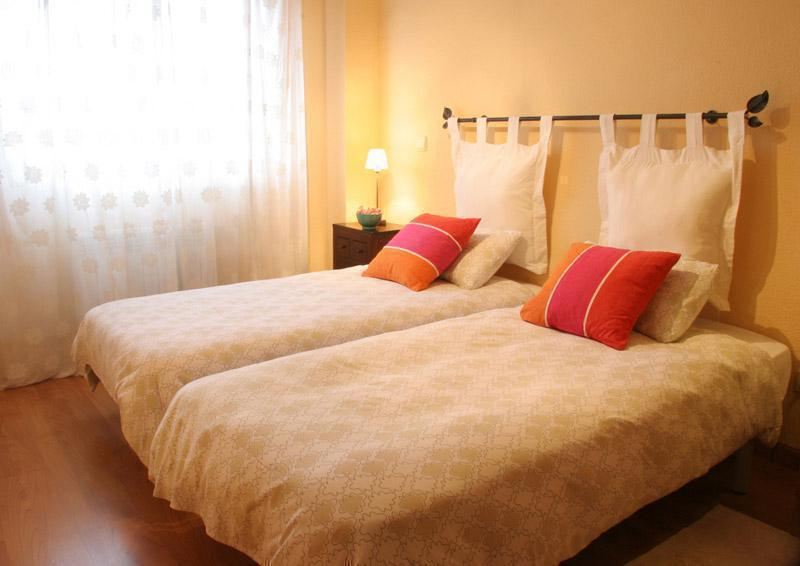Cama: (146, 189, 785, 554), (66, 125, 561, 428)
Ventana: (2, 9, 300, 227)
